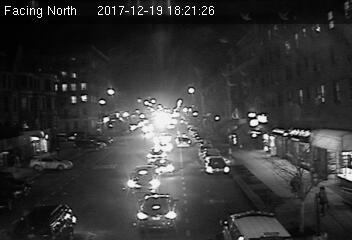car: (137, 193, 181, 230), (128, 166, 161, 198), (203, 156, 231, 174), (152, 160, 176, 175), (145, 148, 167, 163), (175, 135, 192, 148)
police: (219, 208, 303, 240)
